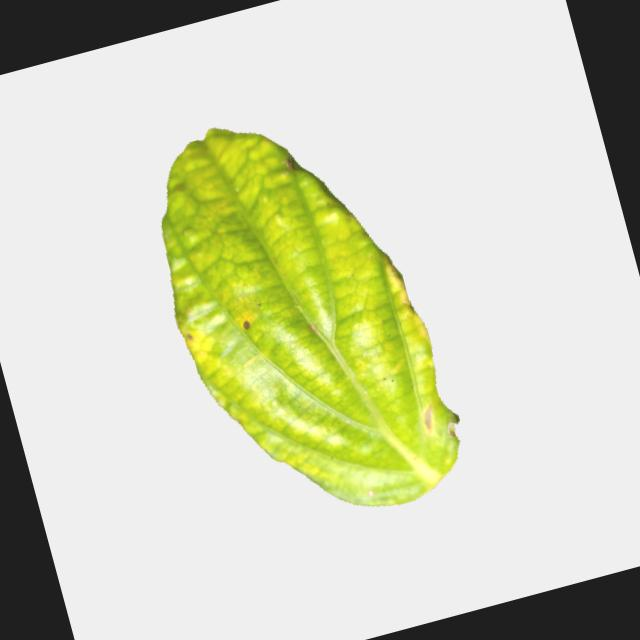yellow-mottle-virus: (131, 88, 489, 553)
